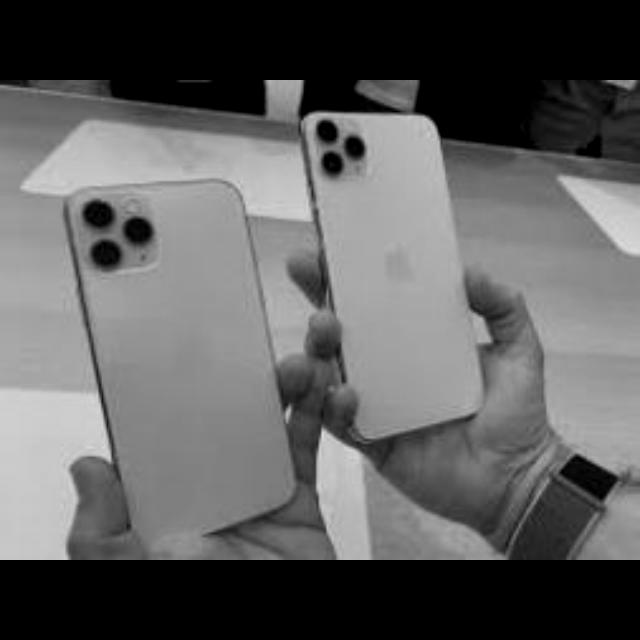fake: (284, 80, 634, 456), (12, 172, 320, 554)
